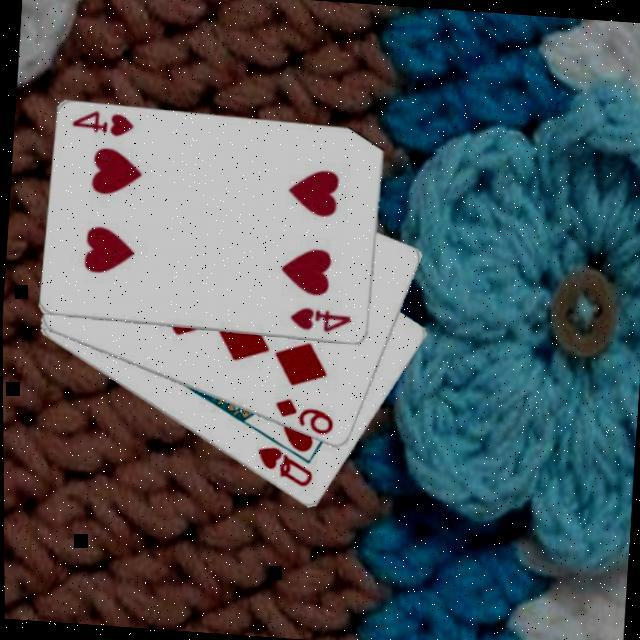4H: (70, 107, 138, 142), (287, 305, 355, 338)
9D: (271, 396, 338, 440)
QH: (253, 444, 318, 492)
